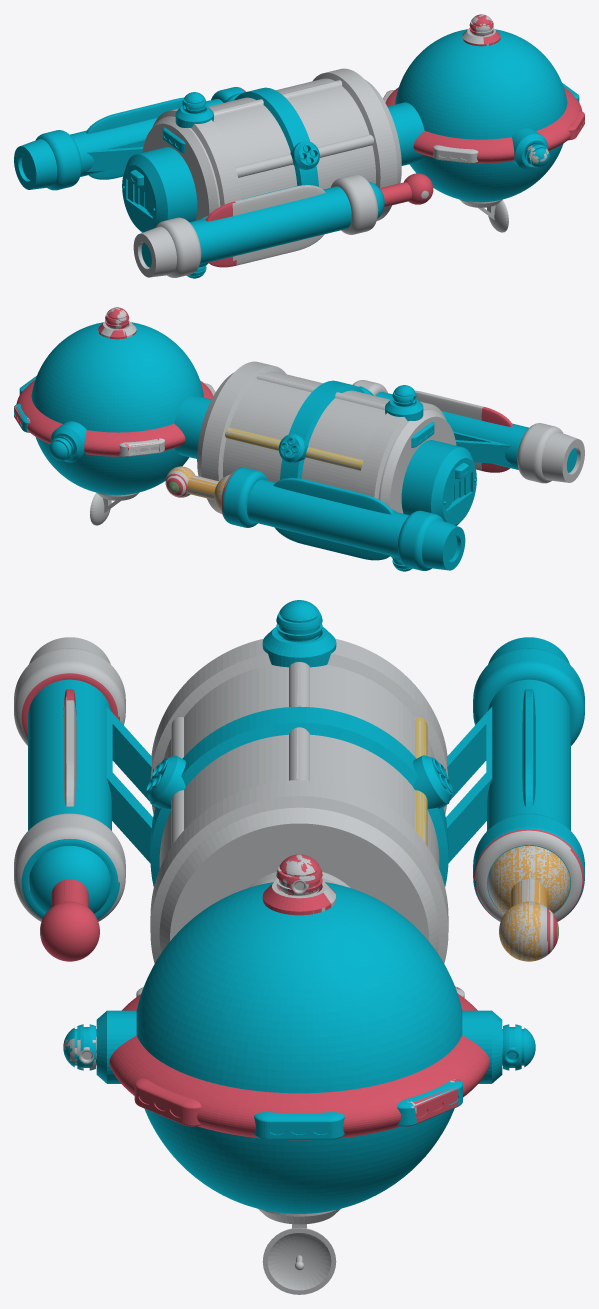
The model's file is Earth Light Cruiser v2.0.glb.
3 views of the same model, one above another, from view 1: azimuth 30°, elevation 25°; view 2: azimuth 150°, elevation 25°; view 3: azimuth 270°, elevation 25° (orthographic). The views are drawn at different scales.
Visible parts, largest first — view 1: Mesh_Mesh_head_geo.001_lambert2SG.001; view 2: Mesh_Mesh_head_geo.001_lambert2SG.001; view 3: Mesh_Mesh_head_geo.001_lambert2SG.001.
Boxes of the visible parts, x1,y1,x2,y2 form: Mesh_Mesh_head_geo.001_lambert2SG.001: (14,14,584,278); Mesh_Mesh_head_geo.001_lambert2SG.001: (14,307,584,571); Mesh_Mesh_head_geo.001_lambert2SG.001: (14,600,584,1294).
Size of the model in its own units: 161 by 69.7 by 85.5.
